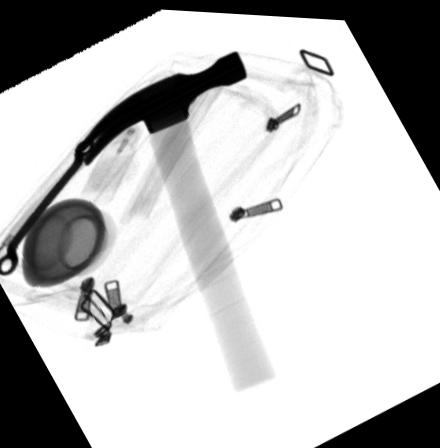Hammer: (74, 46, 275, 390)
Wrench: (0, 139, 99, 276)
